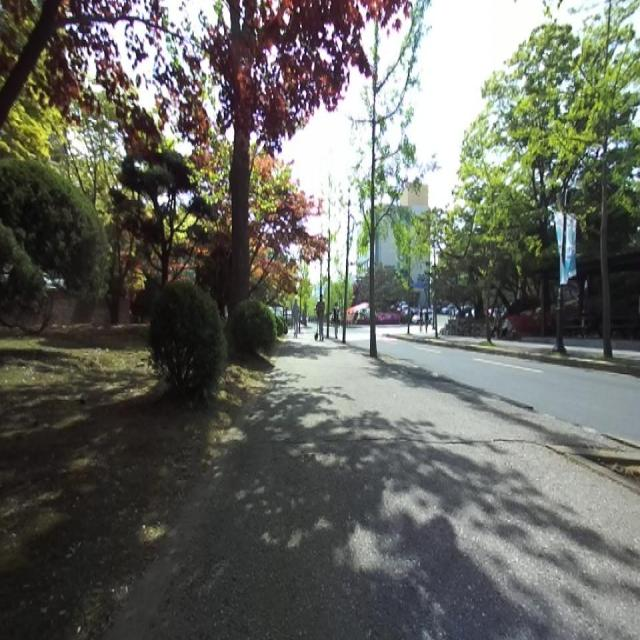sidewalk: (109, 336, 640, 638)
